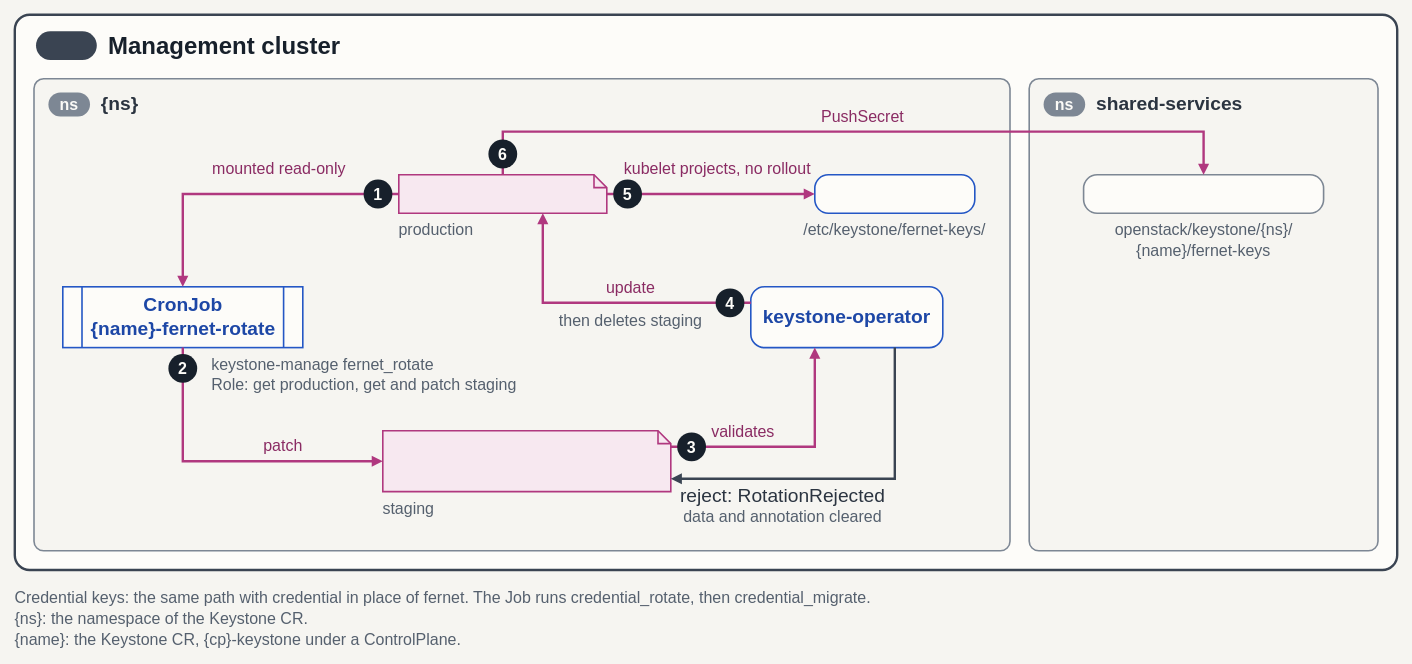
Some shapes in this 1412 by 664 pixel diagram are drawn without their labels. The shapes that lost their labels are listed below. From the top down, each one's box as (x1, y1, x2, y2) in pixels, then its label:
(36, 31, 96, 60): K8s
(398, 174, 607, 214): {name}-fernet-keys
(814, 174, 975, 214): Keystone pods
(1082, 174, 1324, 214): OpenBao KV engine
(382, 430, 671, 492): {name}-fernet-keys-rotation
